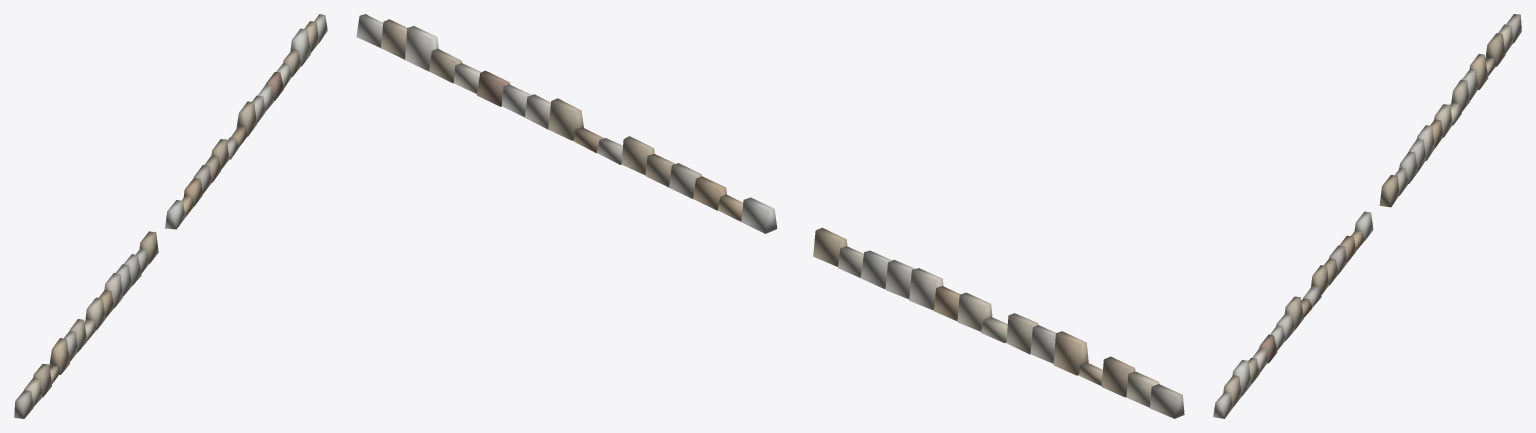
File: farm_7_13_far.glb
3 views of the same model, side by side, from view 1: azimuth 90°, elevation 25°; view 2: azimuth 150°, elevation 25°; view 3: azimuth 270°, elevation 25° (orthographic). The views are drawn at different scales.
Parts seen in each view (by area): view 1: geometry_0; view 2: geometry_0; view 3: geometry_0.
Boxes of the visible parts, left/top/right/bottom form: geometry_0: left=14, top=14, right=327, bottom=418; geometry_0: left=356, top=14, right=1184, bottom=418; geometry_0: left=1213, top=14, right=1521, bottom=418.
Size of the model in its own units: 50.42 by 1.72 by 17.04.
